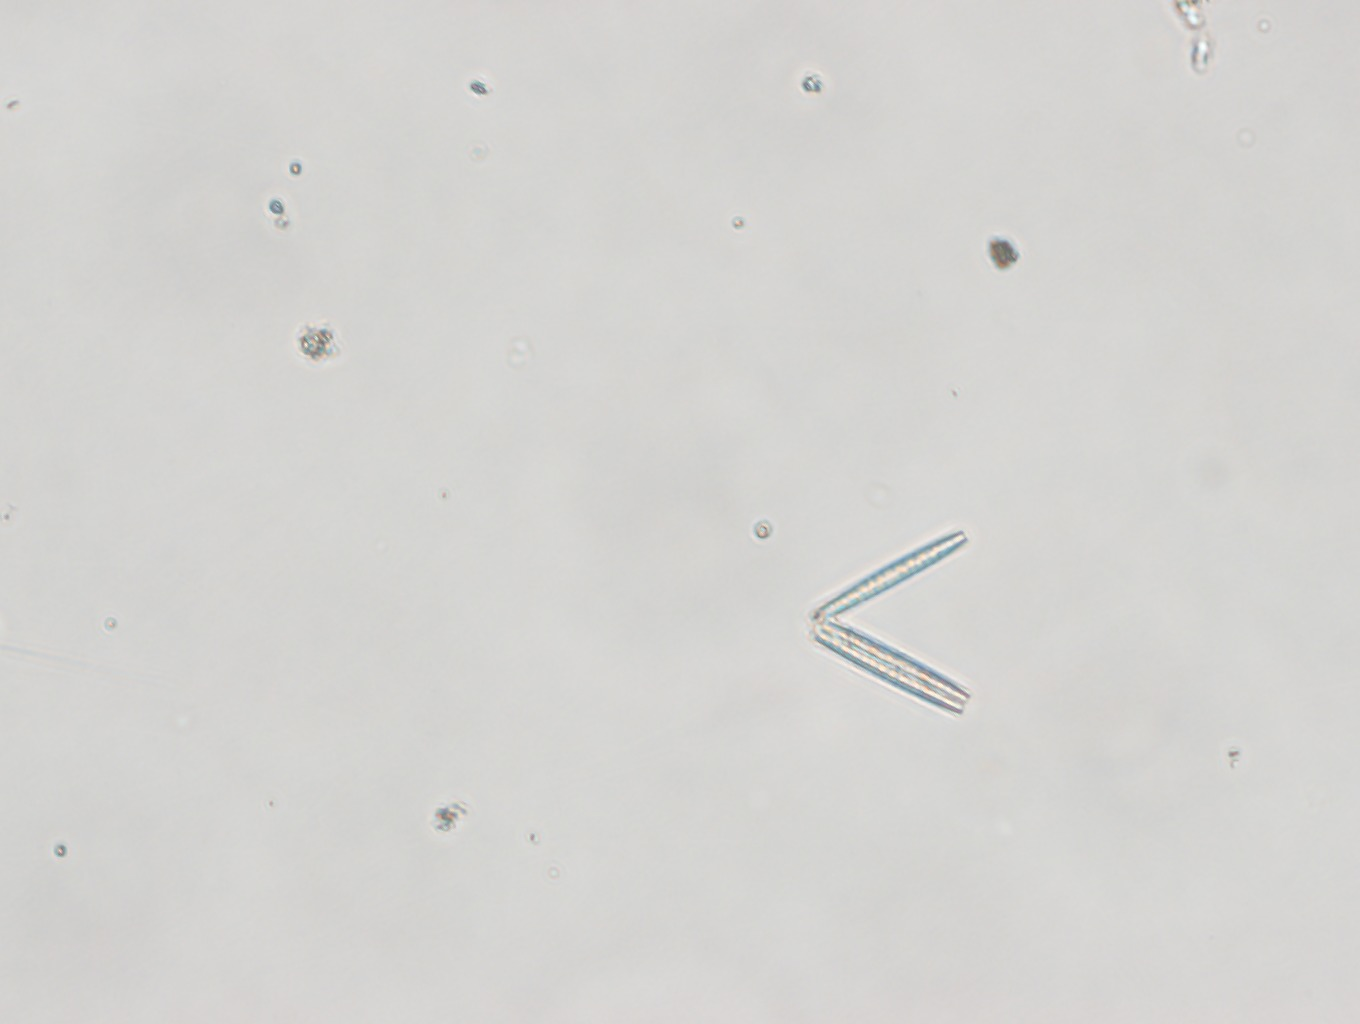thalassionema nitzschioides: (806, 523, 970, 714)
